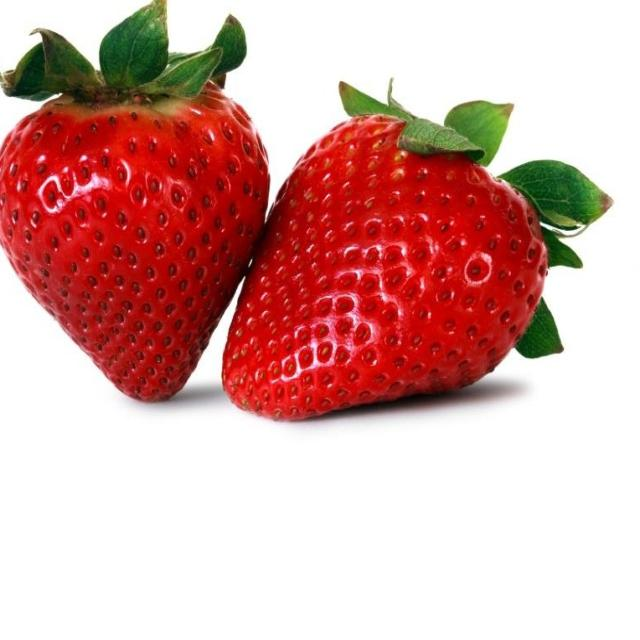strawberry: (221, 84, 594, 446)
